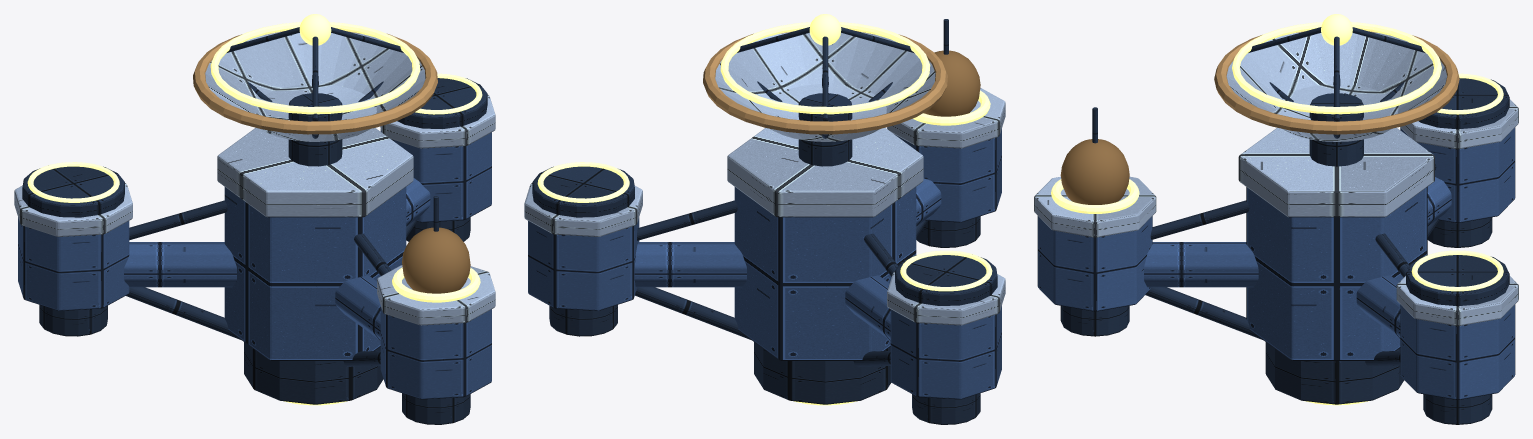
File: relay.glb
3 views of the same model, side by side, from view 1: azimuth 30°, elevation 25°; view 2: azimuth 150°, elevation 25°; view 3: azimuth 270°, elevation 25° (orthographic).
Parts seen in each view (by area): view 1: Surface_Titanium_Panels, Surface_Ceramic_Armor, Surface_Brushed_Steel, Surface_relay_Reactor, Surface_relay_Faction_Enamel, Surface_relay_Glazed_Optics; view 2: Surface_Titanium_Panels, Surface_Ceramic_Armor, Surface_Brushed_Steel, Surface_relay_Reactor, Surface_relay_Faction_Enamel, Surface_relay_Glazed_Optics; view 3: Surface_Titanium_Panels, Surface_Ceramic_Armor, Surface_Brushed_Steel, Surface_relay_Reactor, Surface_relay_Faction_Enamel, Surface_relay_Glazed_Optics.
Part boxes in pixels (bbox=[...]): Surface_Titanium_Panels: bbox=[18, 129, 491, 399]; Surface_Ceramic_Armor: bbox=[14, 32, 495, 325]; Surface_Brushed_Steel: bbox=[22, 27, 487, 424]; Surface_relay_Reactor: bbox=[27, 14, 482, 405]; Surface_relay_Faction_Enamel: bbox=[193, 31, 437, 134]; Surface_relay_Glazed_Optics: bbox=[402, 227, 470, 293]; Surface_Titanium_Panels: bbox=[528, 129, 1001, 399]; Surface_Ceramic_Armor: bbox=[524, 32, 1005, 325]; Surface_Brushed_Steel: bbox=[532, 19, 997, 424]; Surface_relay_Reactor: bbox=[537, 14, 992, 405]; Surface_relay_Faction_Enamel: bbox=[703, 31, 947, 134]; Surface_relay_Glazed_Optics: bbox=[923, 50, 980, 116]; Surface_Titanium_Panels: bbox=[1037, 127, 1515, 399]; Surface_Ceramic_Armor: bbox=[1034, 32, 1518, 326]; Surface_Brushed_Steel: bbox=[1060, 27, 1509, 424]; Surface_relay_Reactor: bbox=[1051, 14, 1503, 405]; Surface_relay_Faction_Enamel: bbox=[1214, 31, 1459, 134]; Surface_relay_Glazed_Optics: bbox=[1060, 139, 1129, 204].
Bounding box in the file's own units: 2.19 × 1.64 × 1.97.
Materials: 6 (3 with a texture image).
